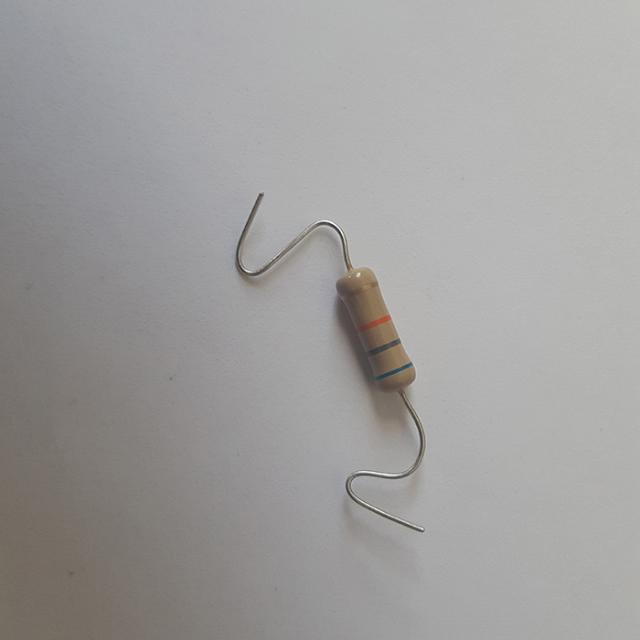blue: (371, 362, 413, 379)
gold: (340, 283, 376, 295)
grey: (367, 339, 400, 356)
orange: (358, 314, 390, 330)
resistor: (310, 251, 432, 408)
